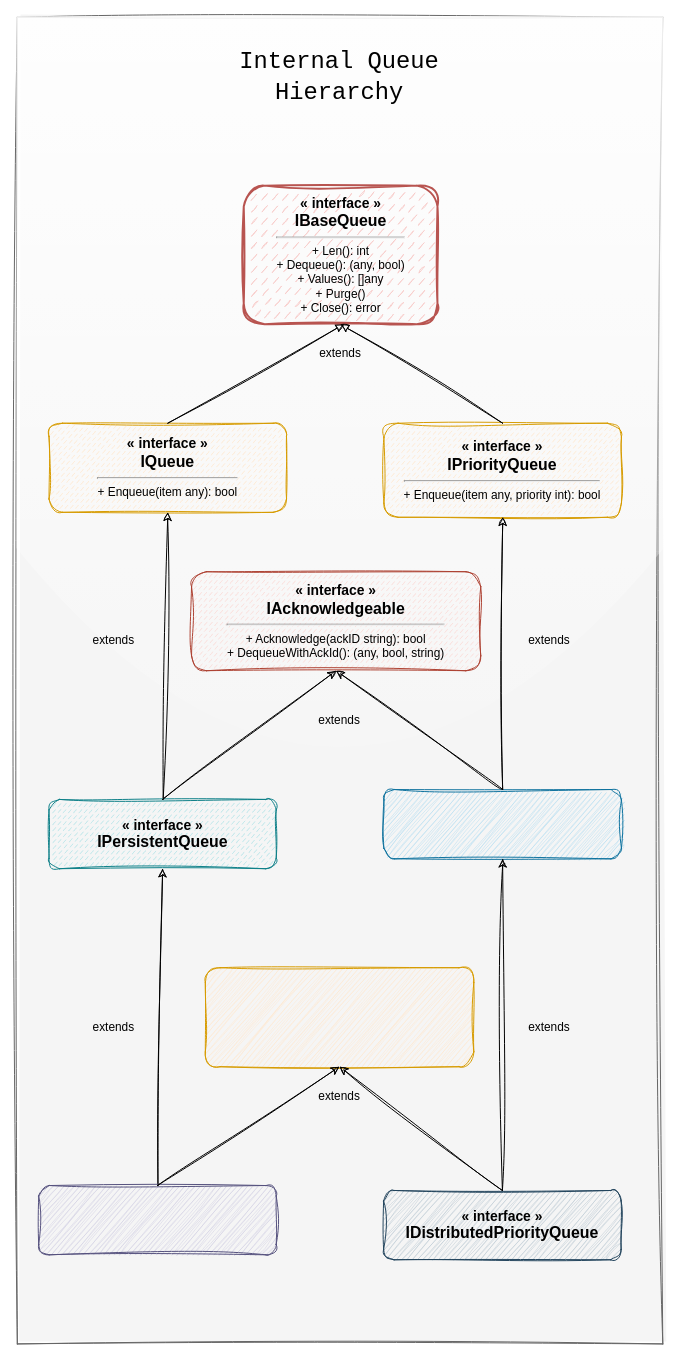
Image size: 680x1361. Some labels were removed from this diagram. Each missing label, with the box of its shape:
« interface » IDistributedQueue: (38, 1185, 276, 1255)
« interface » IPersistentPriorityQueue: (383, 789, 621, 859)
« interface » ISubscribable + Subscribe(func(action string, data []byte)): (204, 967, 474, 1067)
